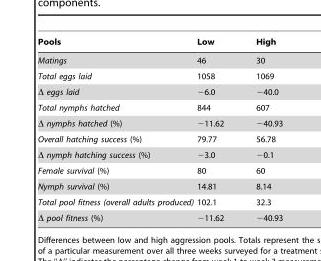table: (37, 37, 282, 222)
table column: (37, 37, 194, 222), (194, 37, 239, 222), (239, 37, 282, 222)
table column header: (37, 37, 282, 50)
table row: (37, 50, 282, 68), (37, 83, 282, 99), (37, 99, 282, 115), (37, 115, 282, 131), (37, 146, 282, 162), (37, 162, 282, 178), (37, 178, 282, 194), (37, 68, 282, 83), (37, 131, 282, 146), (37, 194, 282, 209), (37, 37, 282, 50), (37, 209, 282, 222)
